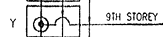Single Phase Tap-Off Unit: (23, 3, 86, 37)
